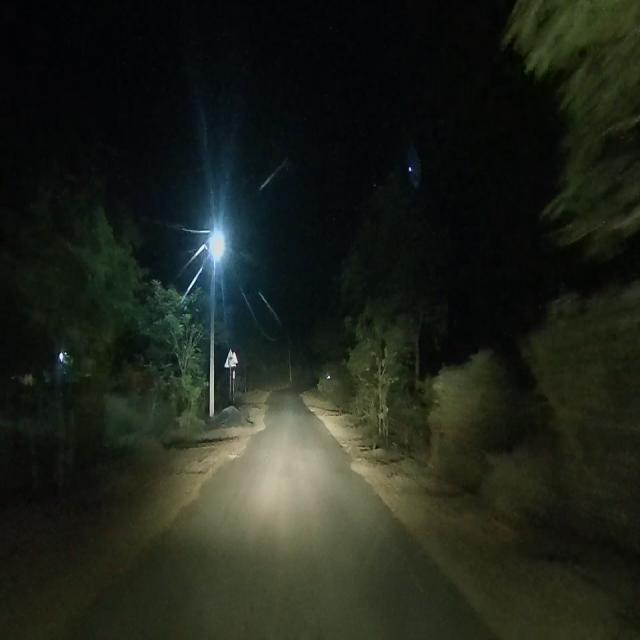right-hand-curve: (225, 342, 240, 367)
